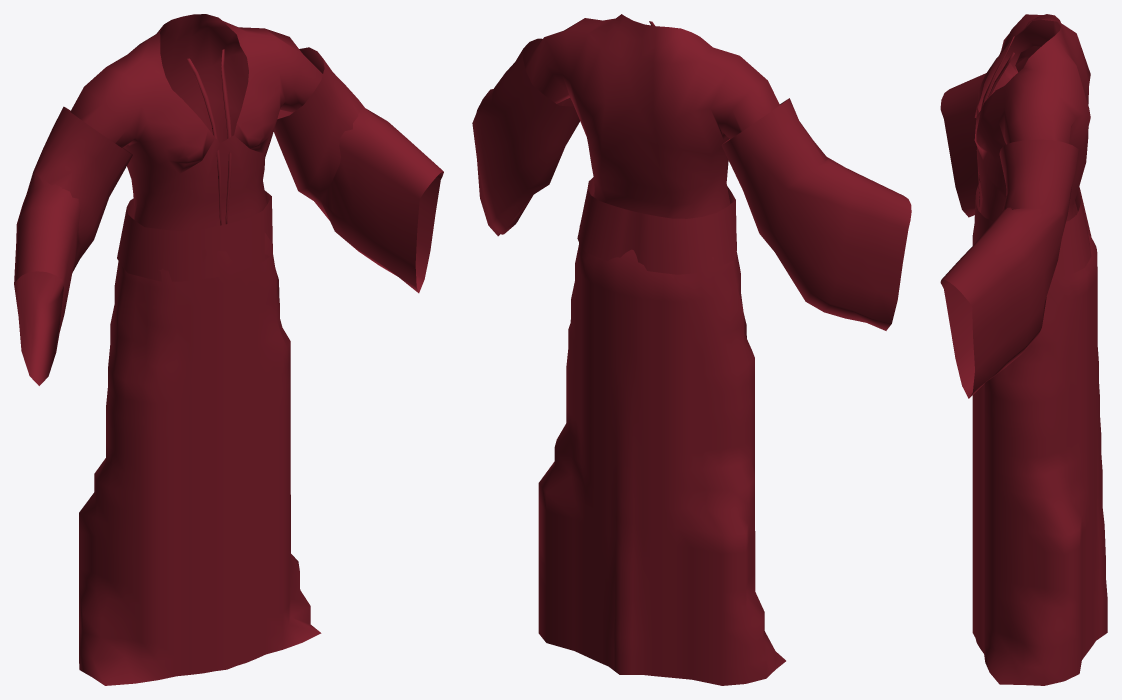
Rendered from kimono.glb.
The picture shows the model from 3 angles, left to right: view 1: azimuth 30°, elevation 25°; view 2: azimuth 150°, elevation 25°; view 3: azimuth 270°, elevation 25°; orthographic projection. The views are drawn at different scales.
Visible parts, largest first — view 1: kimono; view 2: kimono; view 3: kimono.
Boxes of the visible parts, left/top/right/bottom form: kimono: left=14, top=14, right=443, bottom=685; kimono: left=472, top=14, right=911, bottom=685; kimono: left=940, top=14, right=1107, bottom=685.
Bounding box in the file's own units: 1.07 × 1.49 × 0.3712.
